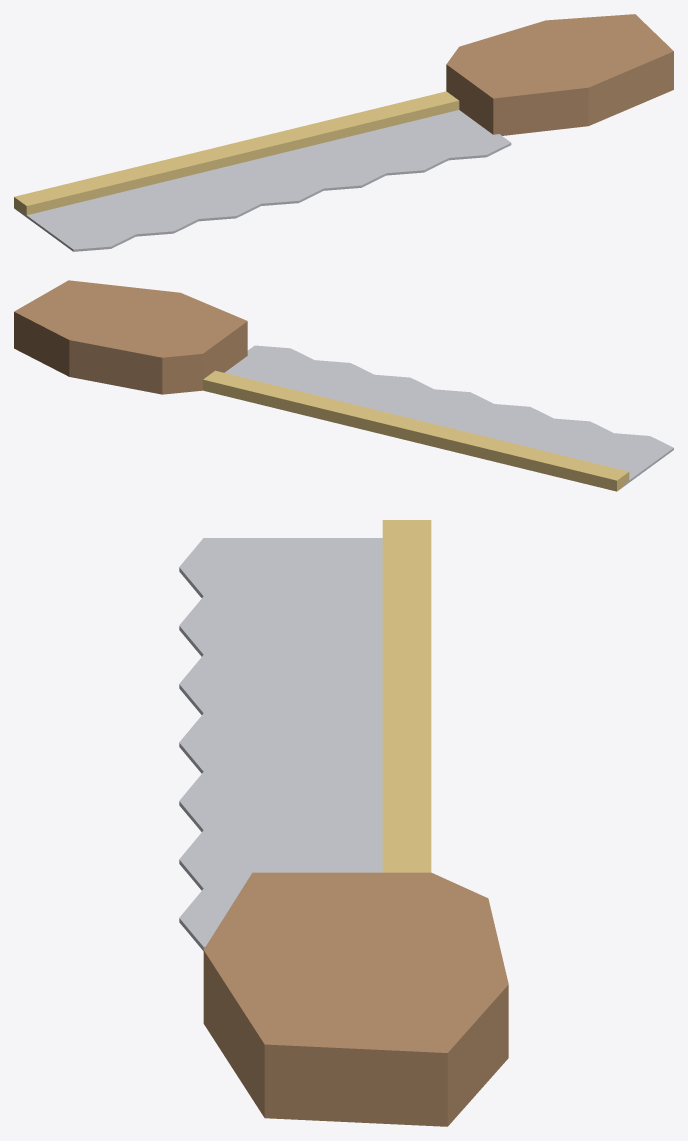
Rendered from prop-dovetail-saw.fbx.
The picture shows the model from 3 angles, top to bottom: view 1: azimuth 30°, elevation 25°; view 2: azimuth 150°, elevation 25°; view 3: azimuth 270°, elevation 25°; orthographic projection. The views are drawn at different scales.
Visible parts, largest first — view 1: prop-dovetail-saw; view 2: prop-dovetail-saw; view 3: prop-dovetail-saw.
Boxes of the visible parts, x1=… form: prop-dovetail-saw: x1=14, y1=14, x2=673, y2=251; prop-dovetail-saw: x1=14, y1=280, x2=673, y2=491; prop-dovetail-saw: x1=179, y1=520, x2=508, y2=1126.
Bounding box in the file's own units: 34 × 2 × 8.1.
